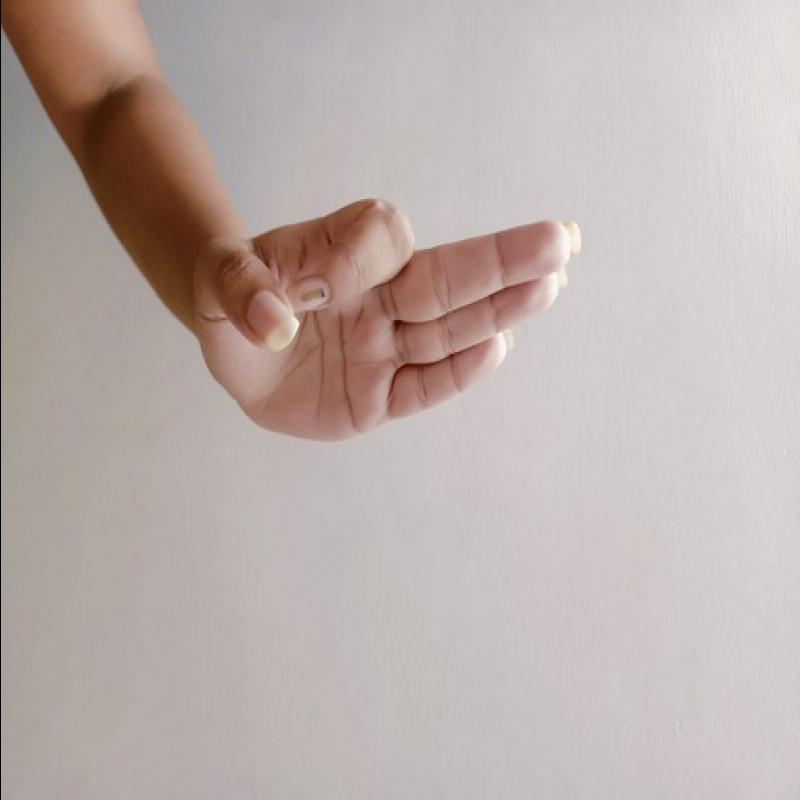Mudraakhyam: (183, 177, 599, 456)
